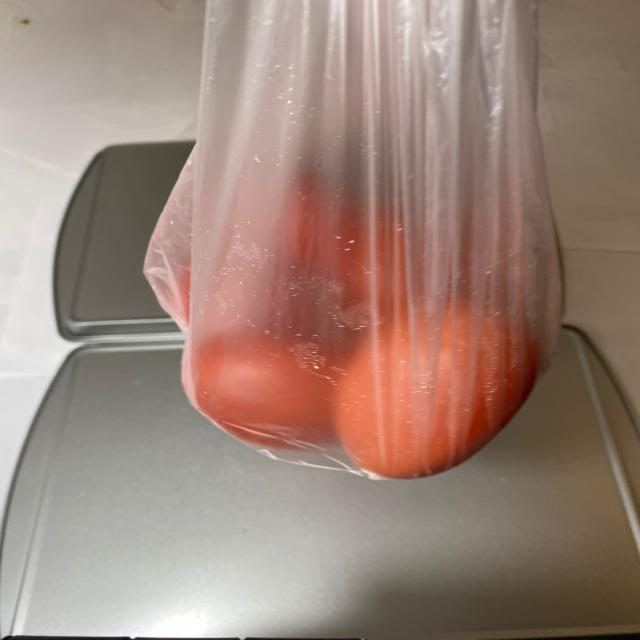tomato: (145, 136, 541, 478)
